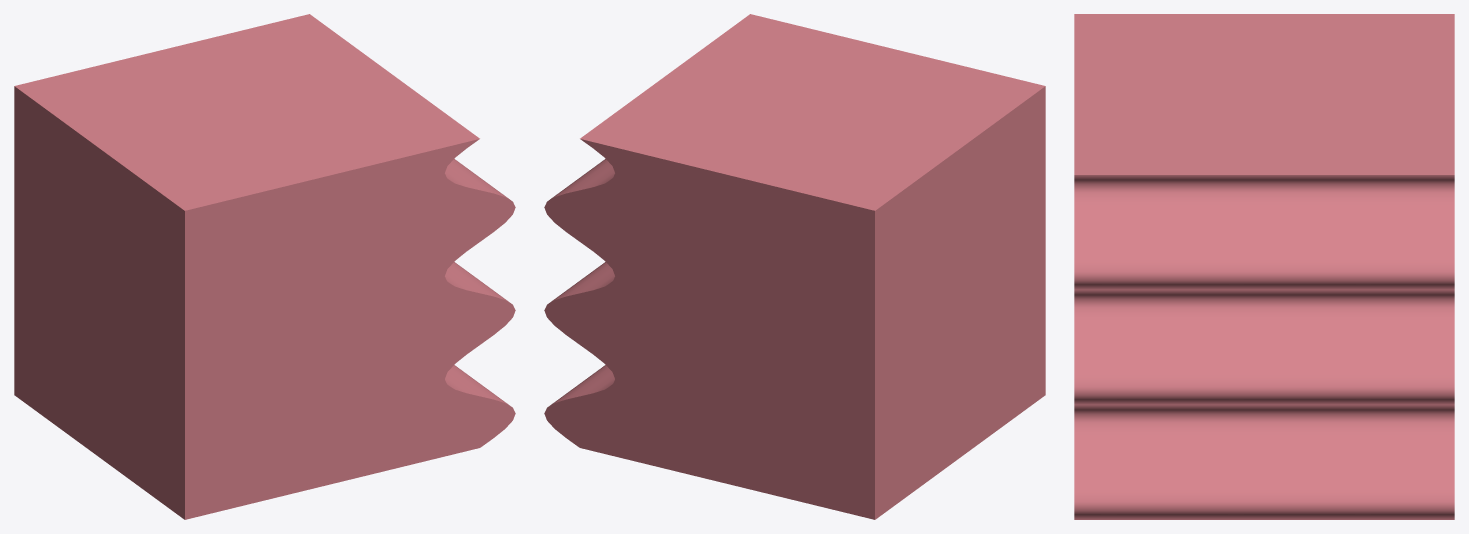
Rendered from ColorWallMuscle.fbx.
3 renders of one model, left to right at view 1: azimuth 30°, elevation 25°; view 2: azimuth 150°, elevation 25°; view 3: azimuth 270°, elevation 25°, orthographic. The views are drawn at different scales.
Parts seen in each view (by area): view 1: ColorWallMuscle; view 2: ColorWallMuscle; view 3: ColorWallMuscle.
Part boxes in pixels (box(x1,y1,x2,y2)): ColorWallMuscle: box(14, 14, 515, 519); ColorWallMuscle: box(544, 14, 1045, 519); ColorWallMuscle: box(1074, 14, 1454, 519).
Bounding box in the file's own units: 112 × 100 × 100.
